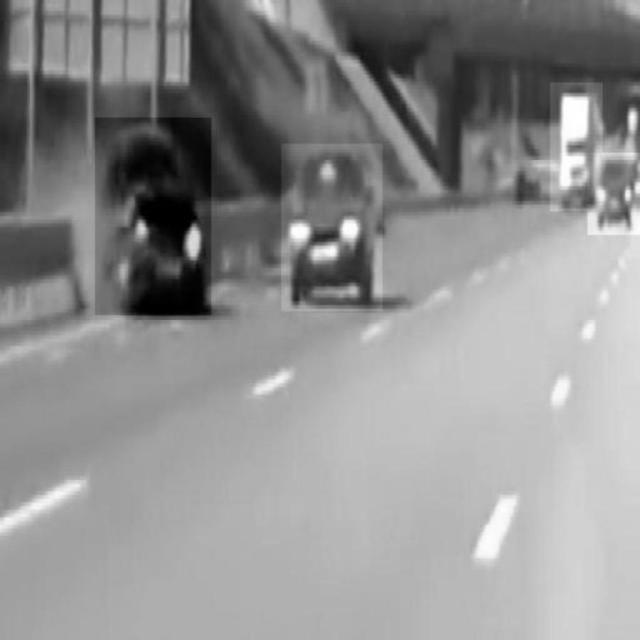vehicle: (95, 118, 211, 315), (282, 144, 383, 311), (550, 83, 602, 211), (588, 152, 640, 234)
